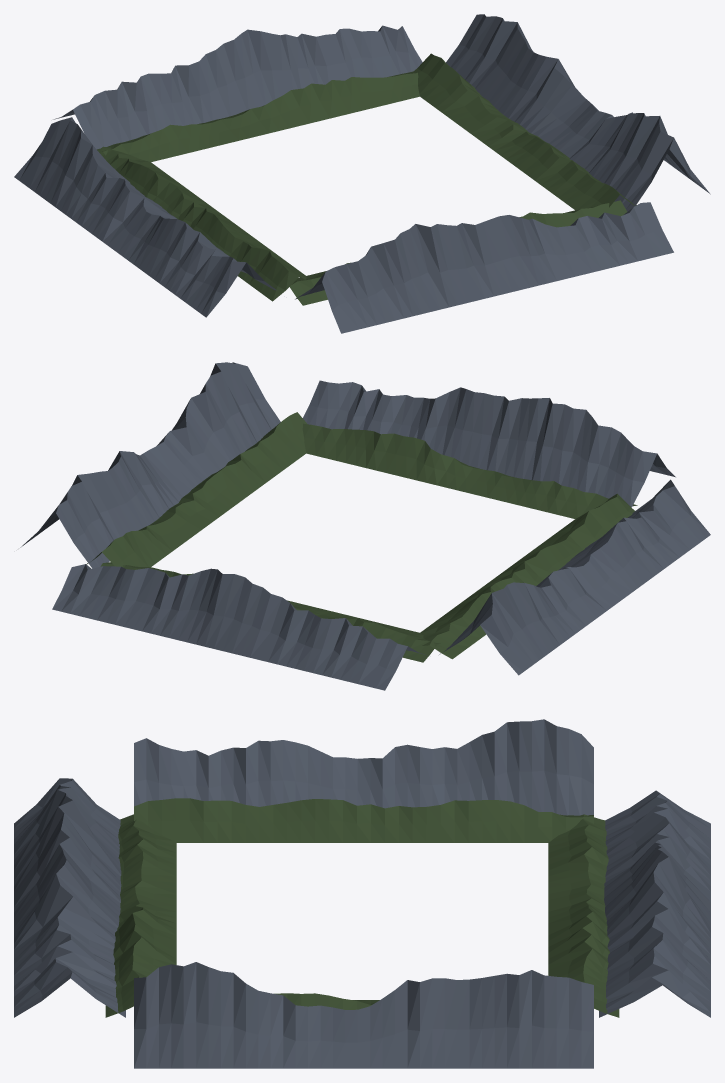
The model's file is Agro_MountainBackdrop.obj.
3 views of the same model, one above another, from view 1: azimuth 30°, elevation 25°; view 2: azimuth 150°, elevation 25°; view 3: azimuth 270°, elevation 25° (orthographic). The views are drawn at different scales.
Parts seen in each view (by area): view 1: Agro_MountainBackdrop; view 2: Agro_MountainBackdrop; view 3: Agro_MountainBackdrop.
Part boxes in pixels (bbox=[...]): Agro_MountainBackdrop: bbox=[14, 14, 710, 333]; Agro_MountainBackdrop: bbox=[20, 362, 710, 690]; Agro_MountainBackdrop: bbox=[14, 719, 710, 1068].
Size of the model in its own units: 685 by 92 by 685.
